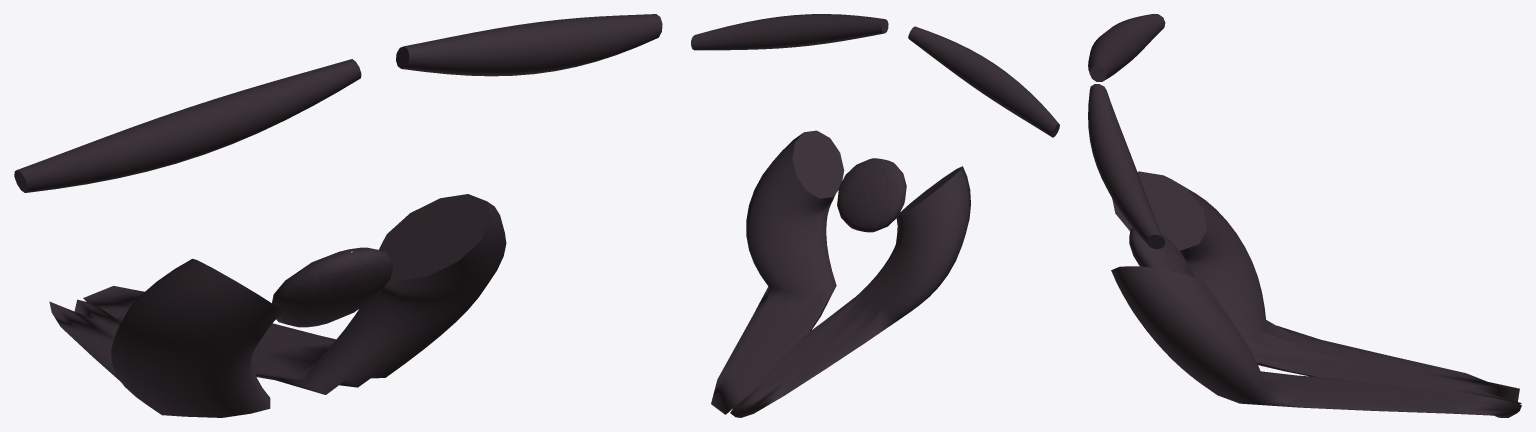
The model's file is facial_anchor_default.gltf.
The picture shows the model from 3 angles, left to right: view 1: azimuth 30°, elevation 25°; view 2: azimuth 150°, elevation 25°; view 3: azimuth 270°, elevation 25°; orthographic projection. The views are drawn at different scales.
Parts seen in each view (by area): view 1: Anchor Beard default; view 2: Anchor Beard default; view 3: Anchor Beard default.
Part boxes in pixels (left/top/right/bottom): Anchor Beard default: left=14, top=14, right=662, bottom=417; Anchor Beard default: left=691, top=14, right=1059, bottom=417; Anchor Beard default: left=1088, top=14, right=1521, bottom=417.
Size of the model in its own units: 0.1894 by 0.1352 by 0.1572.
1 material, 1 textured.
